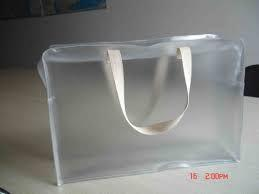Plastic bag: (24, 29, 250, 193)
